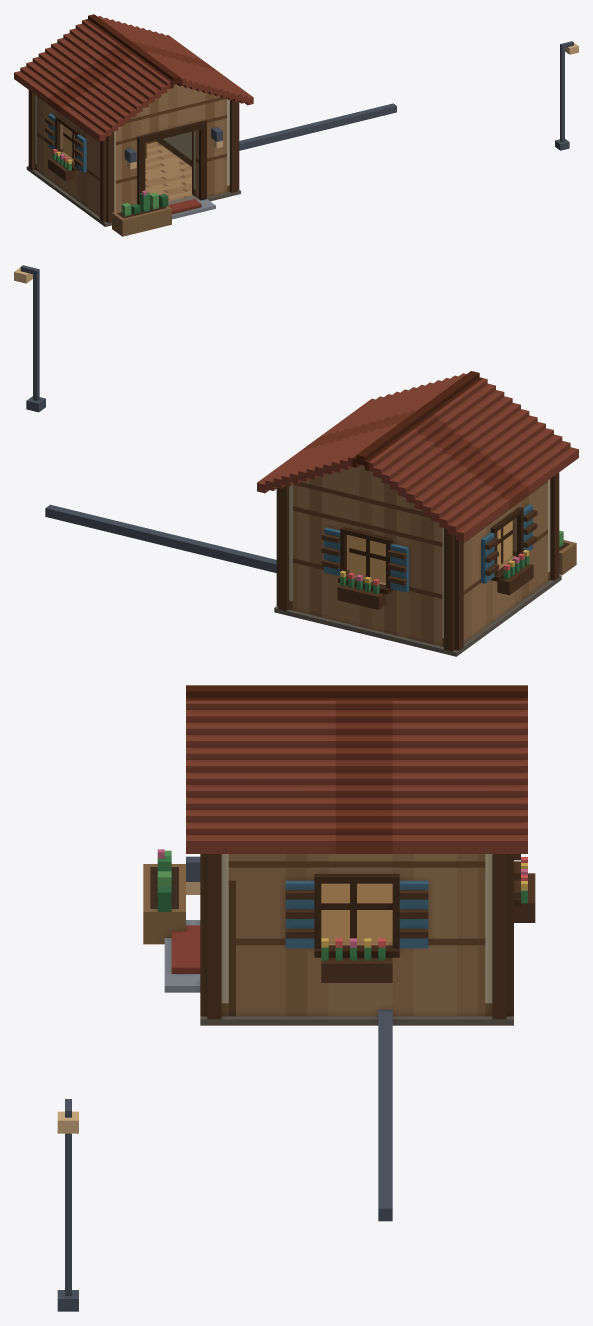
File: antenna_e1_l1.glb
The picture shows the model from 3 angles, top to bottom: view 1: azimuth 30°, elevation 25°; view 2: azimuth 150°, elevation 25°; view 3: azimuth 270°, elevation 25°; orthographic projection. The views are drawn at different scales.
Visible parts, largest first — view 1: CutRoof, Base, CutPZ, CutNX, CutNZ; view 2: CutRoof, Base, CutNZ, CutNX, CutPZ; view 3: CutRoof, Base, CutPX, CutPZ, CutNZ.
Boxes of the visible parts, bbox=[...] form: CutRoof: bbox=[14, 14, 253, 141]; Base: bbox=[26, 41, 578, 236]; CutPZ: bbox=[100, 99, 239, 193]; CutNX: bbox=[37, 96, 99, 187]; CutNZ: bbox=[28, 90, 36, 141]; CutRoof: bbox=[257, 371, 578, 541]; Base: bbox=[14, 265, 576, 656]; CutNZ: bbox=[276, 484, 463, 612]; CutNX: bbox=[463, 481, 547, 603]; CutPZ: bbox=[548, 472, 559, 541]; CutRoof: bbox=[186, 685, 527, 853]; Base: bbox=[57, 849, 535, 1311]; CutPX: bbox=[228, 854, 485, 969]; CutPZ: bbox=[186, 854, 235, 960]; CutNZ: bbox=[485, 854, 535, 960].
Size of the model in its own units: 14.5 by 4.2 by 6.7.
